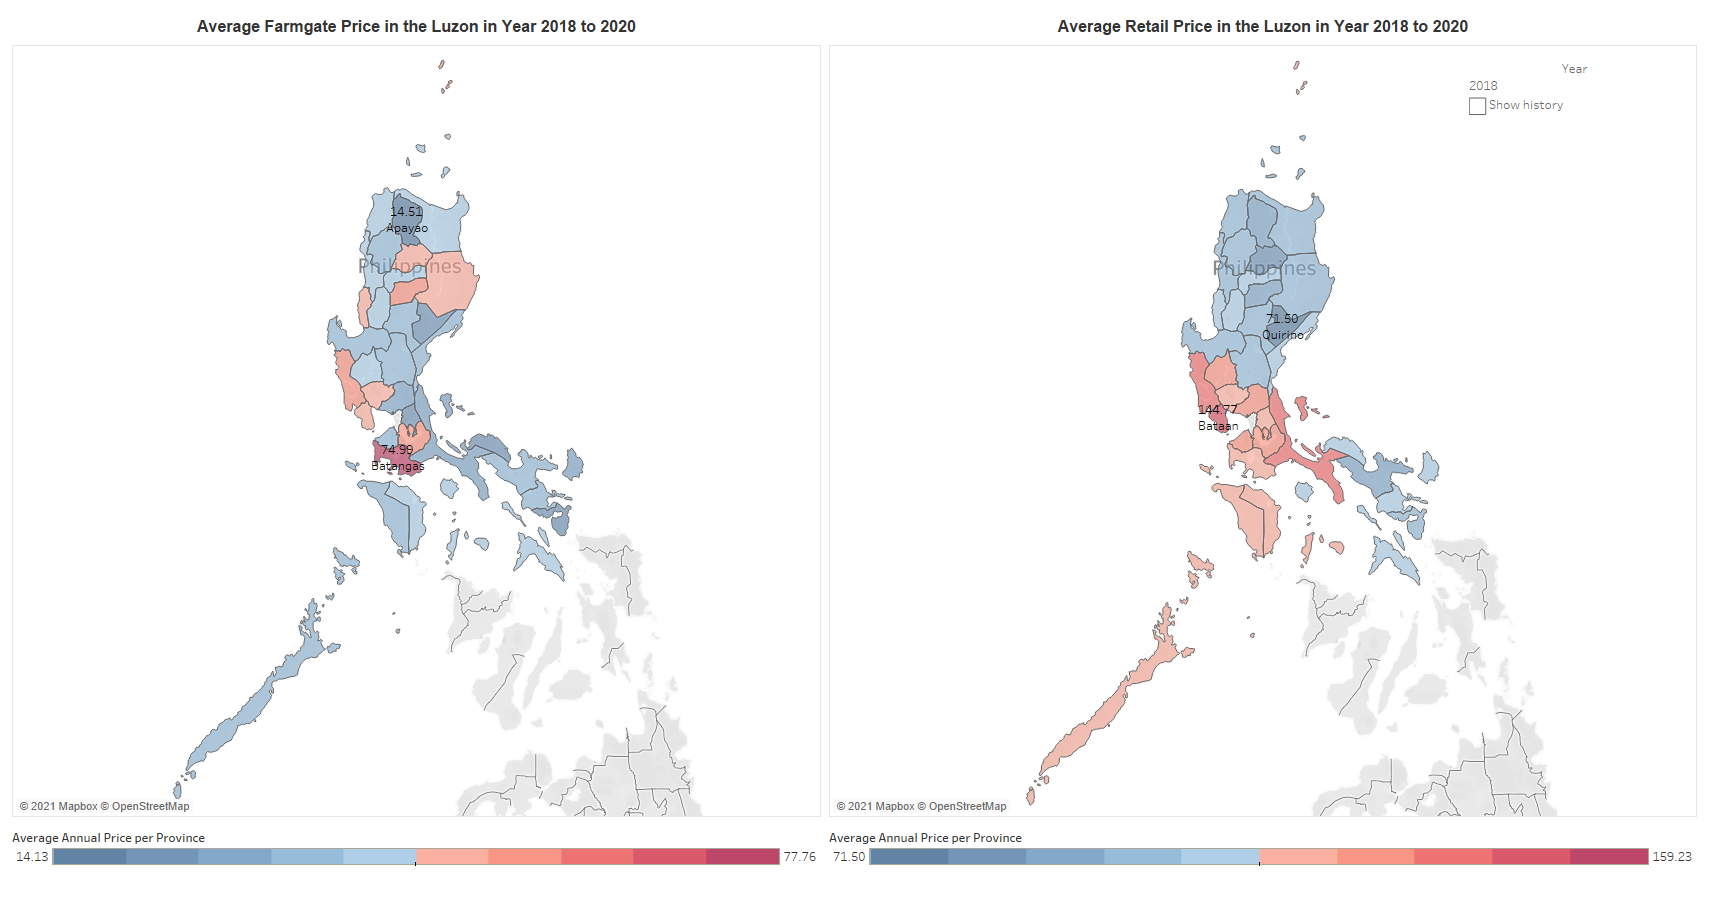

The page's visual inventory and layout, read from the dashboard file:
{"tool":"tableau","page":{"name":"Objective 3","canvas":[1000,1000],"units":"permille","ordinal":3},"visuals":[{"type":"worksheet","title":"Farmgate Province","mark":"Multipolygon","box":[4.7,8.8,478.1,899.3]},{"type":"worksheet","title":"Retail Province","mark":"Multipolygon","box":[482.8,8.8,512.5,899.3]},{"type":"currpage","title":"Farmgate Province","box":[859.6,65.3,123.5,88.5]},{"type":"legend","title":"Farmgate Province","param":"[federated.11yr58t03ajr2j1fum0s00oflgma].[avg:Annual Price:qk]","box":[4.7,908.2,478.1,83]},{"type":"legend","title":"Retail Province","param":"[federated.11yr58t03ajr2j1fum0s00oflgma].[avg:Annual Price:qk]","box":[482.8,908.2,512.5,83]}]}

Visuals, with their boxes on the dashboard's canvas, which has no fixed pixel size, in thousandths of its width and height (x1, y1, x2, y2). These are canvas units, not pixel positions in the 1709x904 screenshot, which may show the page scaled, cropped or inside an application window:
"Farmgate Province" worksheet (Multipolygon marks): bbox=[5, 9, 483, 908]
"Retail Province" worksheet (Multipolygon marks): bbox=[483, 9, 995, 908]
"Farmgate Province" currpage: bbox=[860, 65, 983, 154]
"Farmgate Province" legend: bbox=[5, 908, 483, 991]
"Retail Province" legend: bbox=[483, 908, 995, 991]
